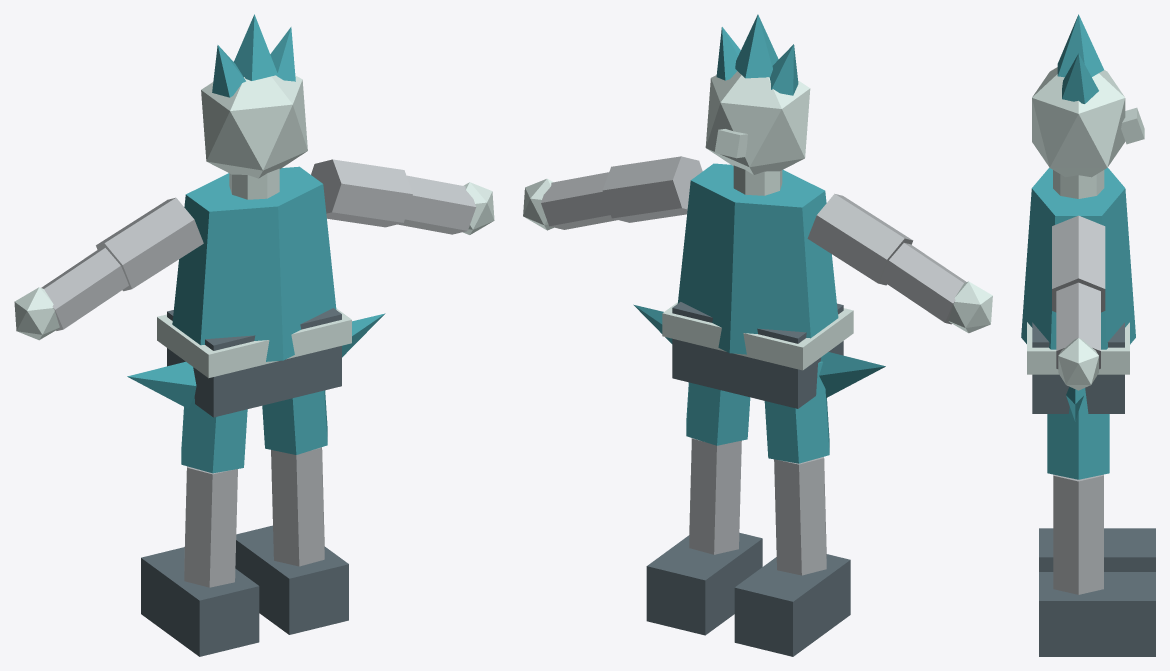
Rendered from Siren_Blockout.fbx.
3 views of the same model, side by side, from view 1: azimuth 30°, elevation 25°; view 2: azimuth 150°, elevation 25°; view 3: azimuth 270°, elevation 25° (orthographic). The views are drawn at different scales.
Visible parts, largest first — view 1: Siren_Body; view 2: Siren_Body; view 3: Siren_Body.
Part boxes in pixels (box(x1,y1,x2,y2)): Siren_Body: box(14, 14, 494, 656); Siren_Body: box(523, 14, 992, 656); Siren_Body: box(1021, 14, 1155, 656).
Bounding box in the file's own units: 1.59 × 1.95 × 0.3924.
